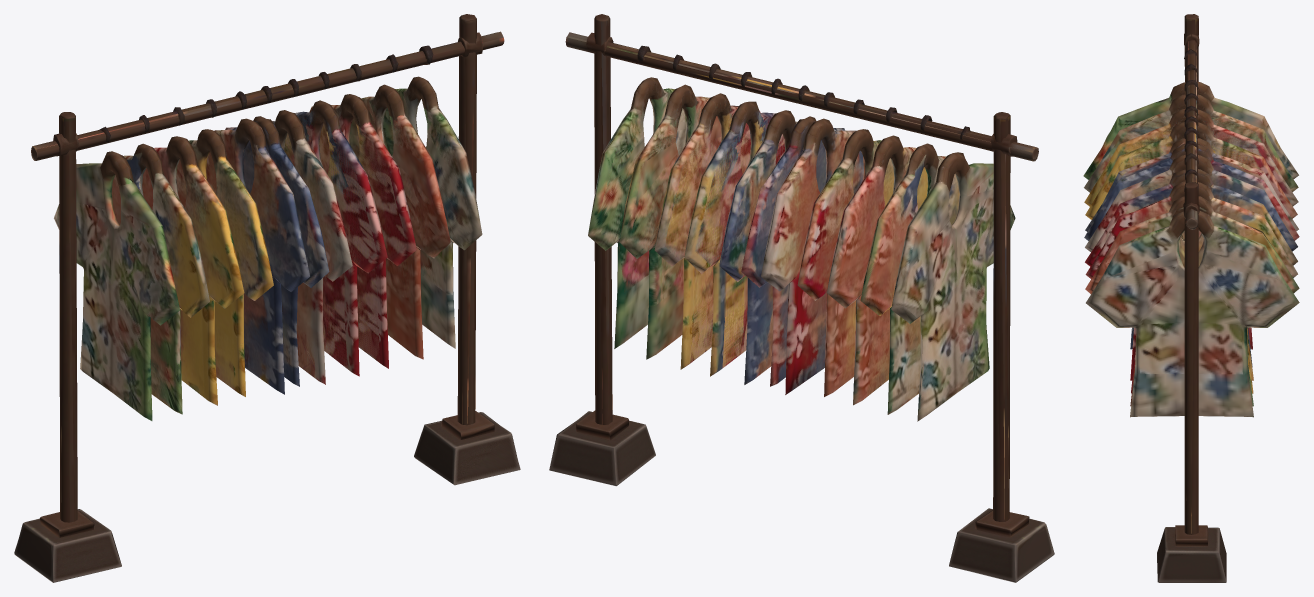
Rendered from Meshy_AI_Hawaiian_Shirt_Rack_0912110208_texture.fbx.
The picture shows the model from 3 angles, left to right: view 1: azimuth 30°, elevation 25°; view 2: azimuth 150°, elevation 25°; view 3: azimuth 270°, elevation 25°; orthographic projection. The views are drawn at different scales.
Parts seen in each view (by area): view 1: Mesh_0; view 2: Mesh_0; view 3: Mesh_0.
Part boxes in pixels (x1,y1,x2,y2): Mesh_0: (14, 14, 520, 582); Mesh_0: (549, 14, 1054, 582); Mesh_0: (1083, 14, 1299, 582).
Bounding box in the file's own units: 100 × 91.6 × 46.68.
1 material, 1 textured.
